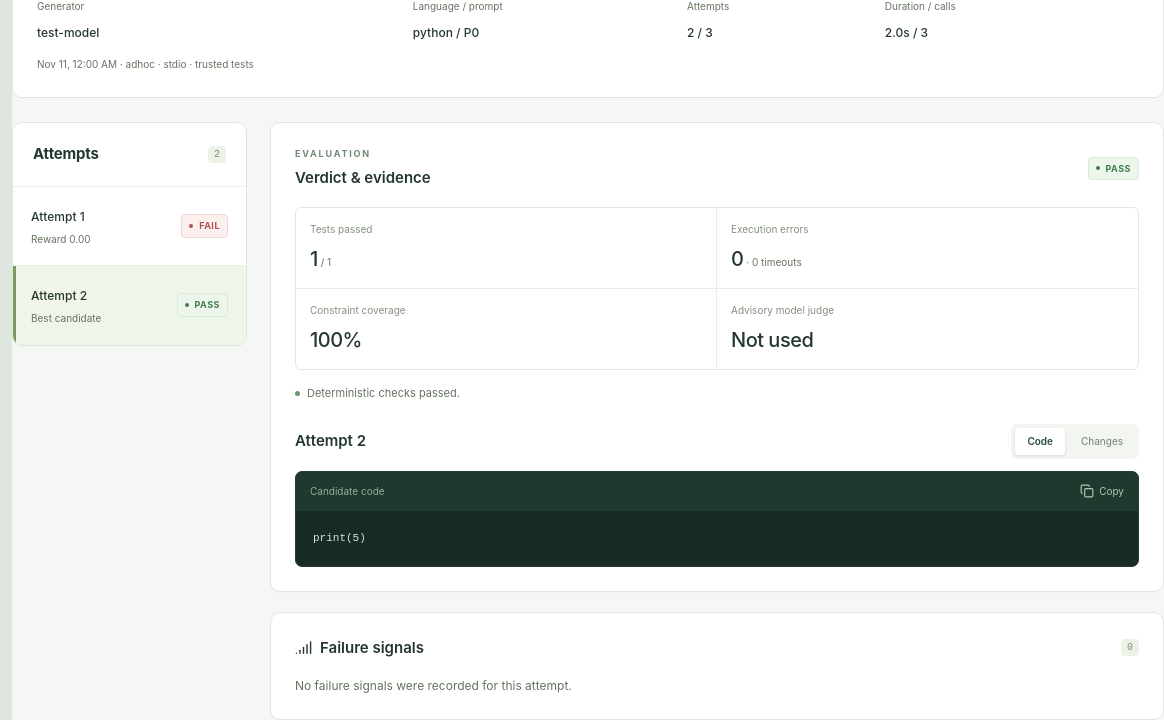
Test: history selects the best attempt and shows earlier signals and code changes
(page scrolled)
Check: the element named "Candidate code" reads "print(5)", box [313,532,366,544]
Click the button "Changes" at (1102,441), box [1069,428,1135,455]
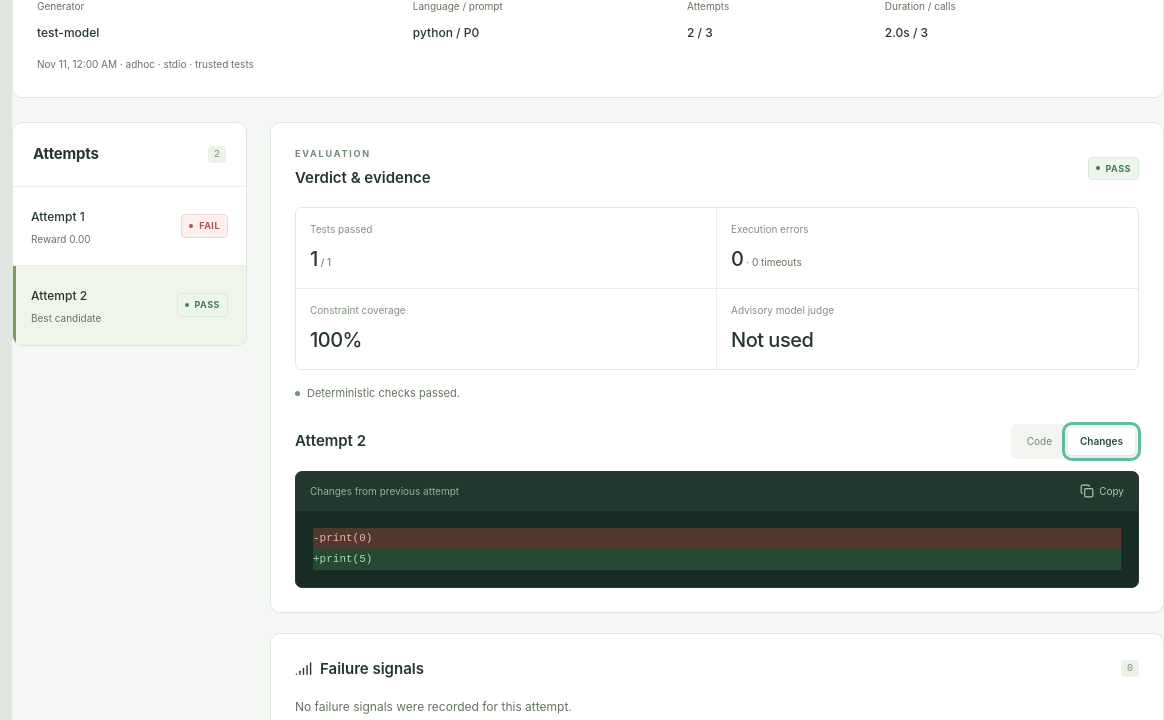
Check: the element named "Changes from previous attempt" shows "-print(0)", box [313,532,372,544]
Click the button "Attempt 1 Reward 0.00 FAIL" at (130,226), box [13,187,246,266]
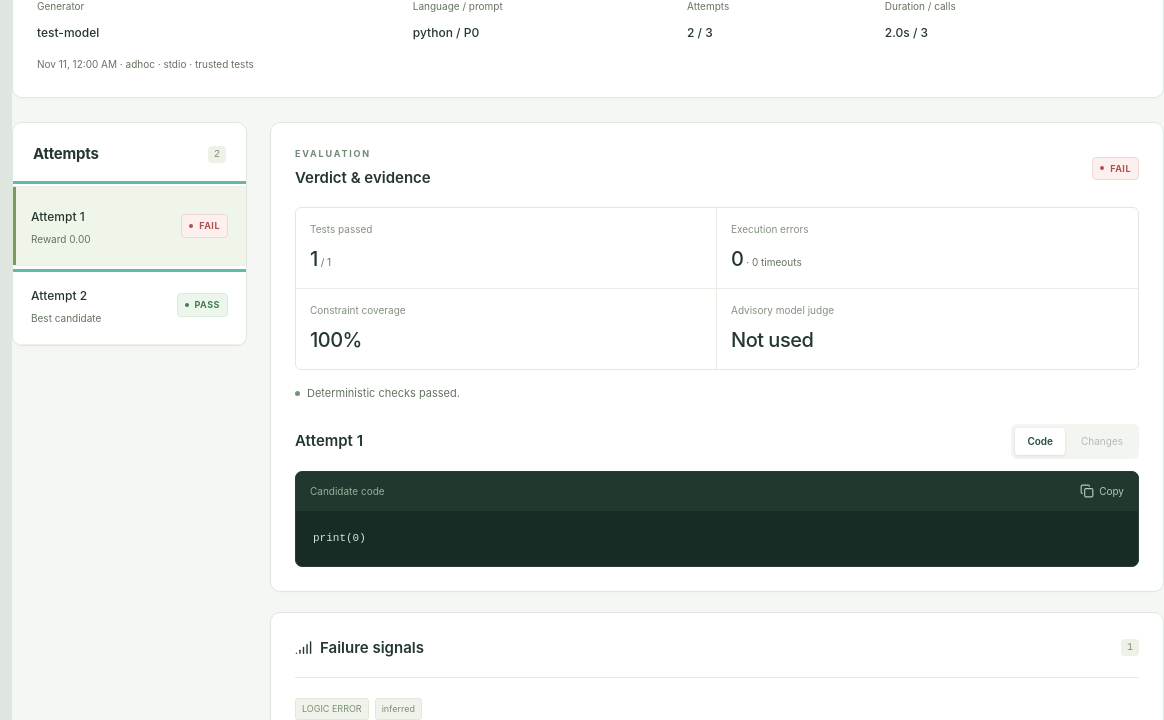
Check: the element named "Candidate code" reads "print(0)", box [313,532,366,544]
Check: the button "Changes" is disabled, box [1069,428,1135,455]
